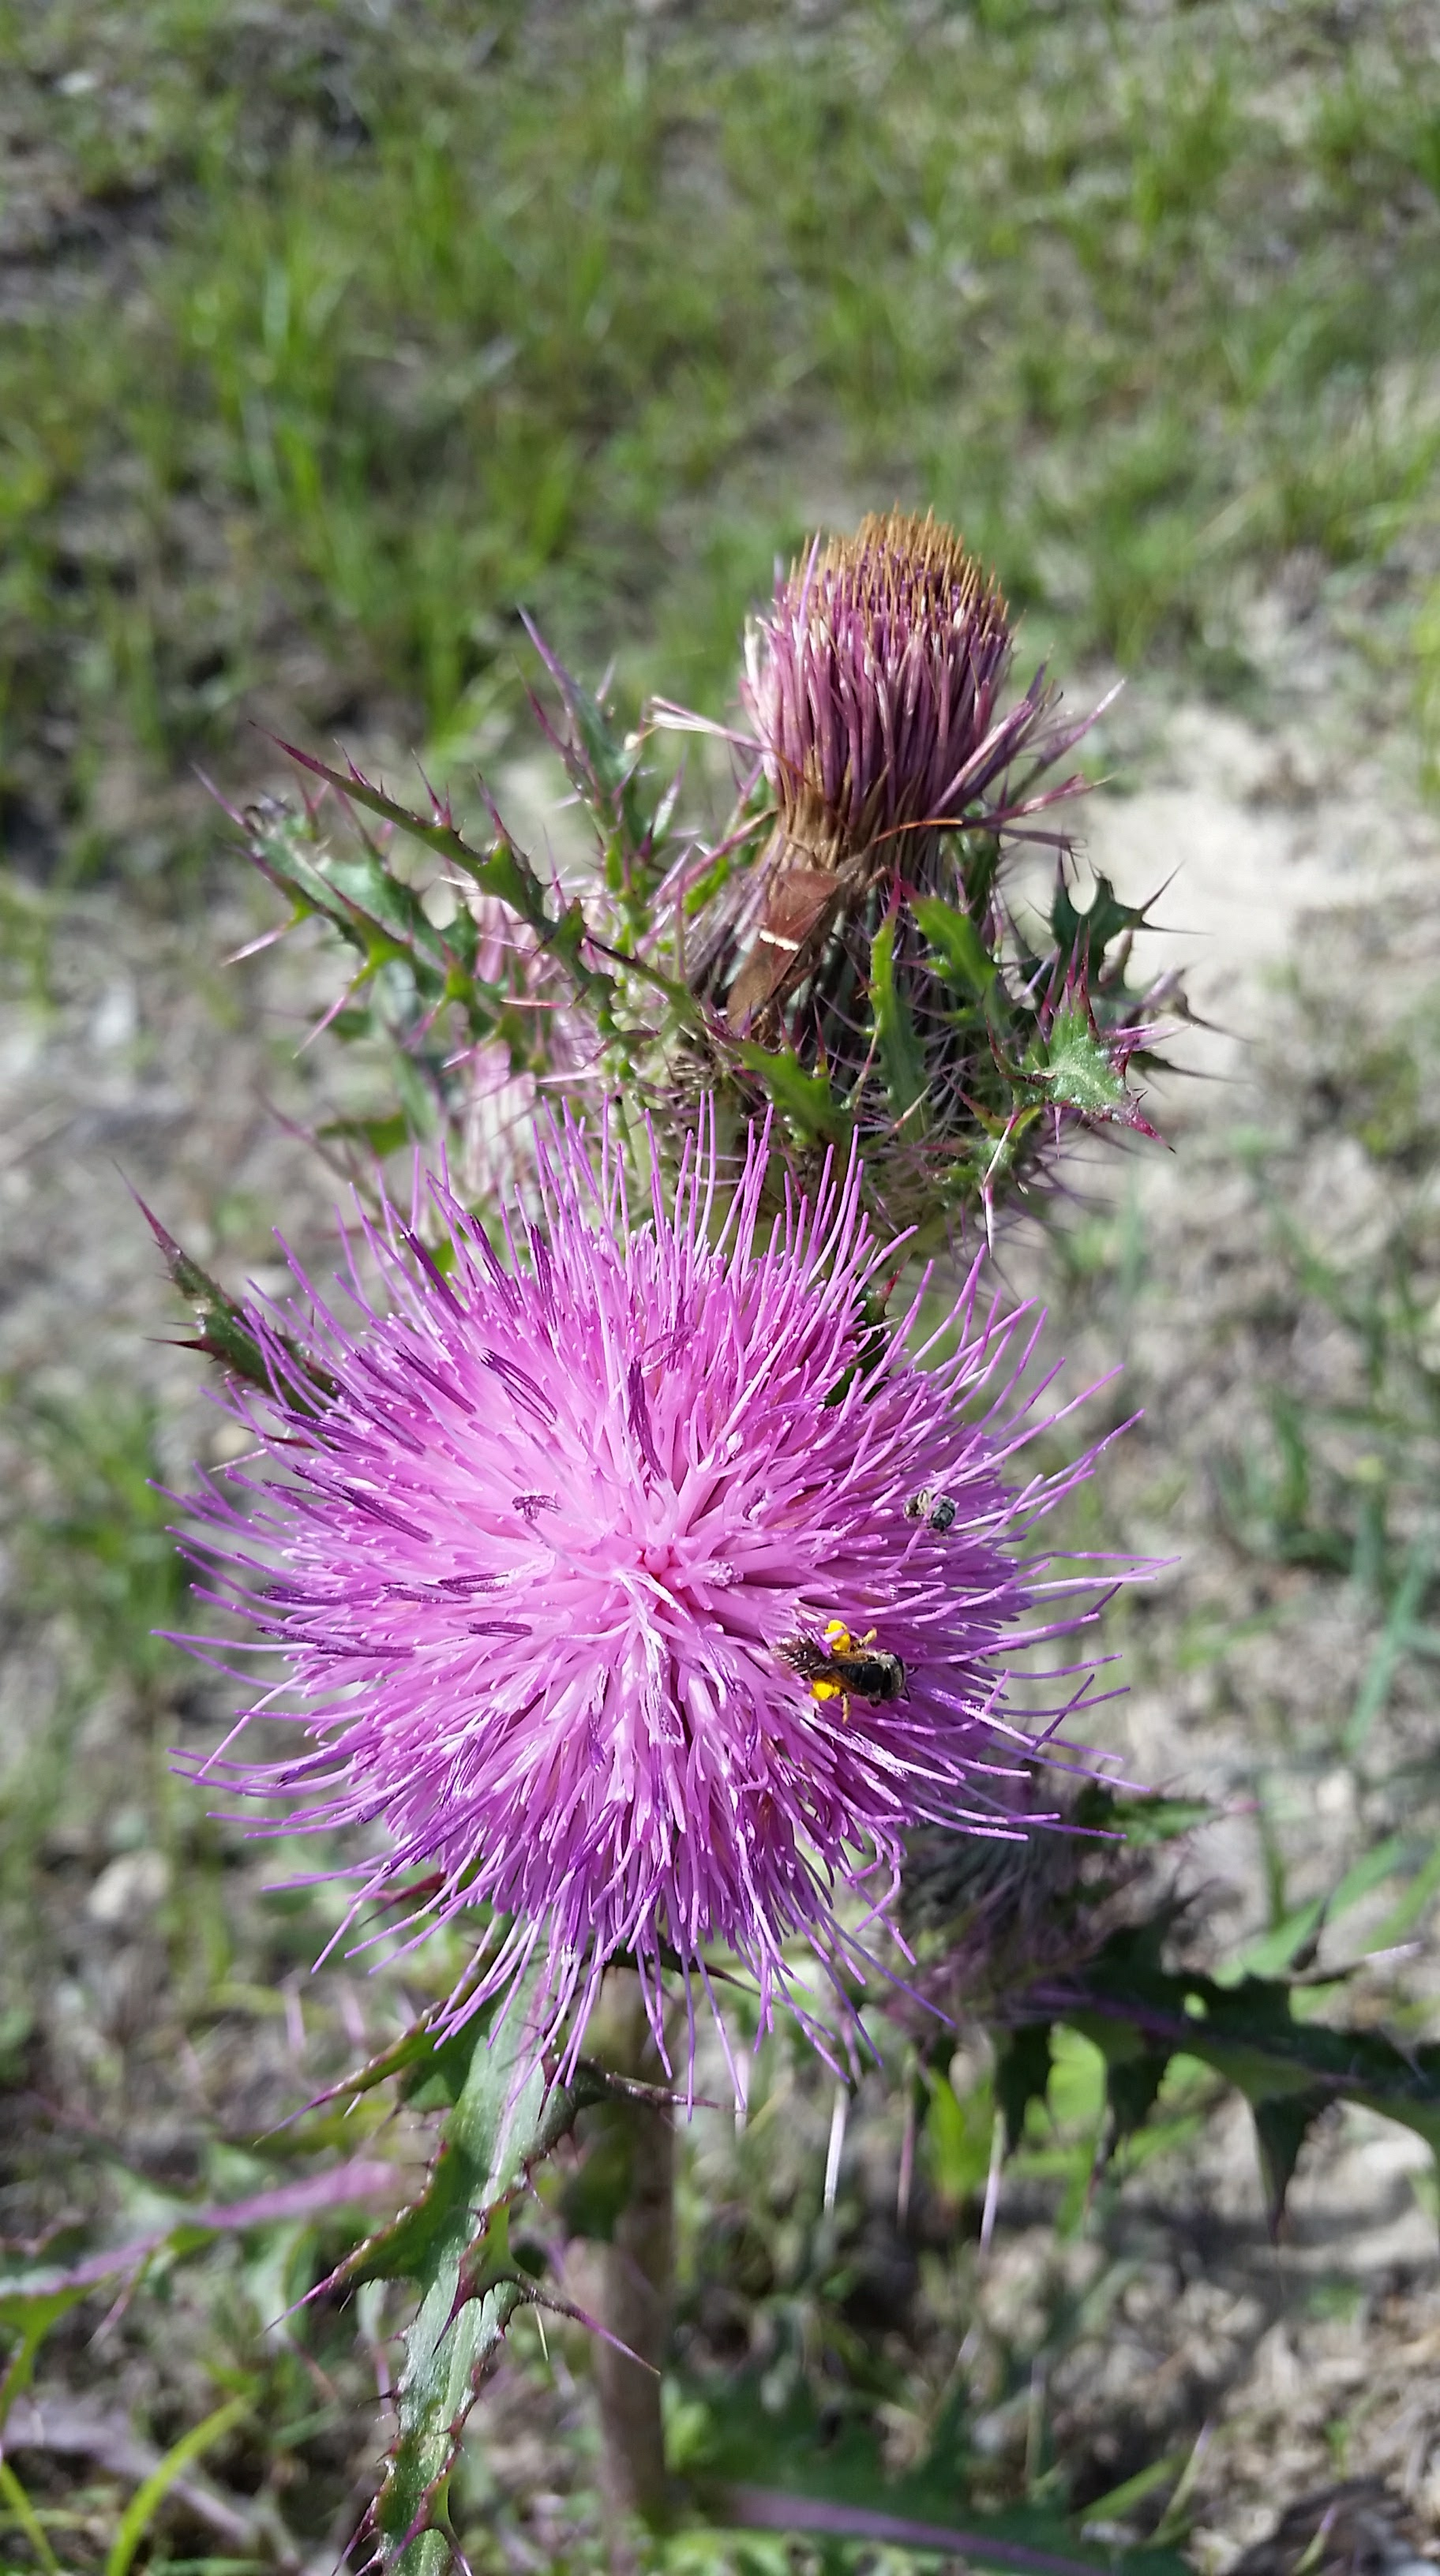thistle: (127, 1081, 1107, 2098)
